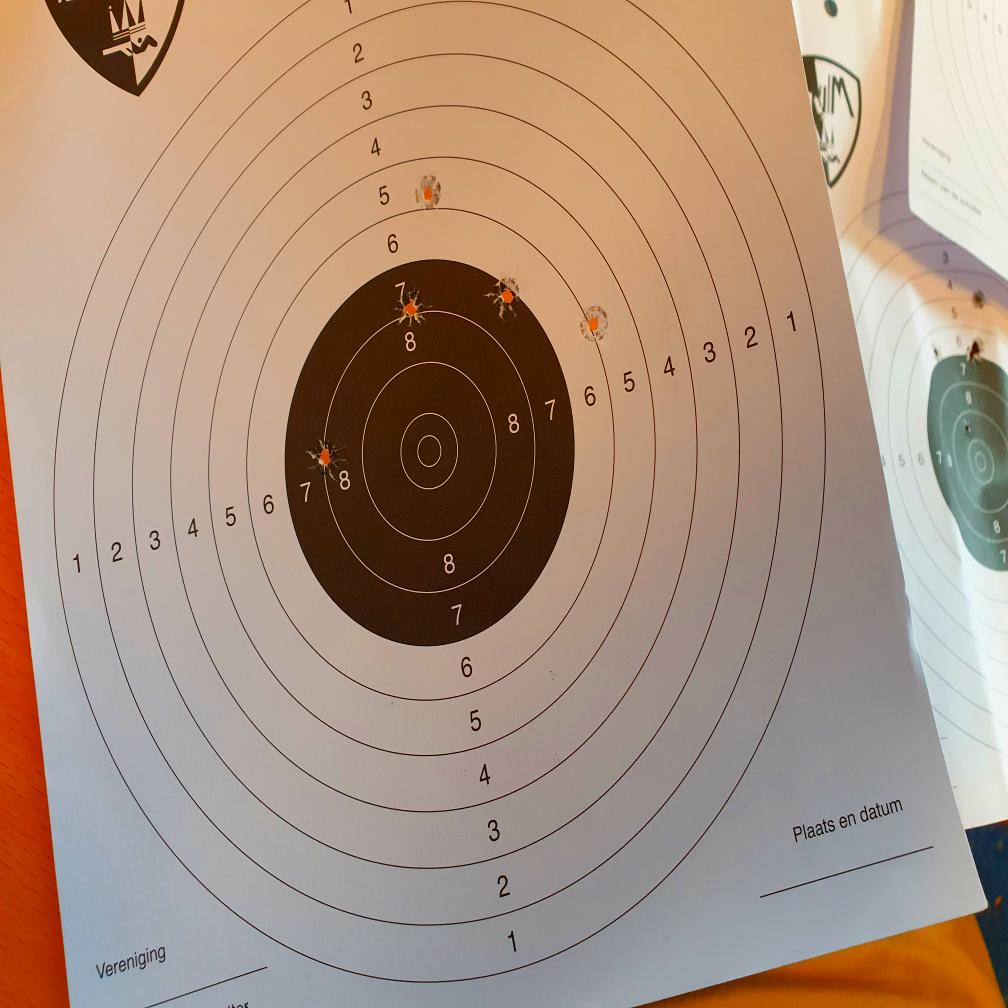5: (415, 174, 442, 211)
6: (581, 304, 610, 343)
7: (492, 276, 523, 320)
8: (394, 288, 428, 326), (308, 438, 341, 476)
Target: (52, 2, 829, 984)
black_contour: (284, 258, 575, 648)
